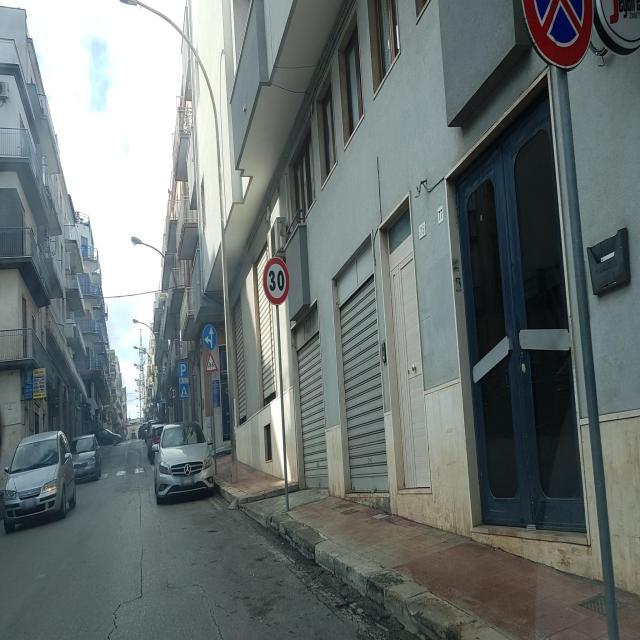car: (2, 428, 77, 531), (154, 419, 215, 503), (70, 433, 102, 482), (147, 420, 164, 463), (96, 428, 120, 446), (138, 420, 148, 440)
